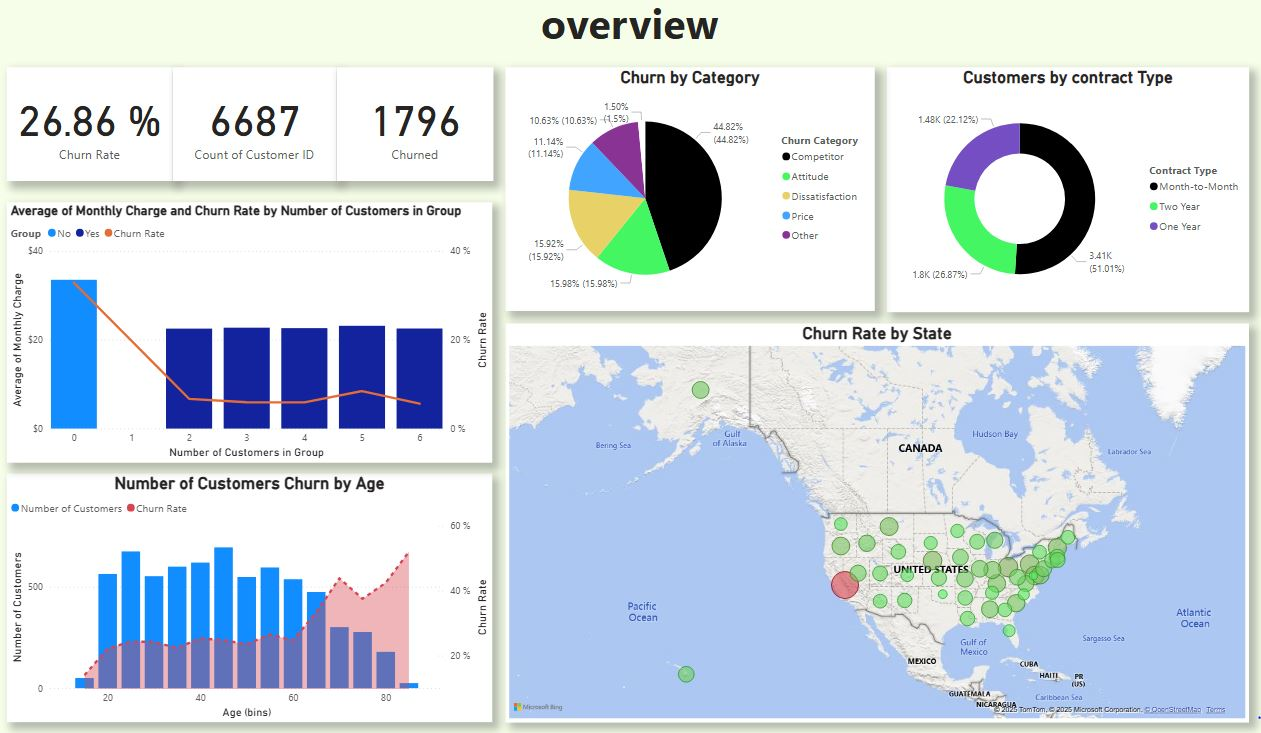

This screenshot's page, from the dashboard's own definition file:
{"tool":"powerbi","page":{"name":"Overview","canvas":[1640,960],"ordinal":5},"visuals":[{"type":"card","fields":{"Values":["Databel - Data.Churn Rate"]},"box":[18.3,98.3,213.3,146.7],"z":0},{"type":"card","fields":{"Values":["Count(Databel - Data.Customer ID)"]},"box":[231.7,98.3,210,146.7],"z":1000},{"type":"card","fields":{"Values":["Sum(Databel - Data.Churned)"]},"box":[441.7,98.3,201.7,146.7],"z":2000},{"type":"donutChart","title":"Customers by contract Type","fields":{"Y":["Count(Databel - Data.Customer ID)"],"Category":["Databel - Data.Contract Type"]},"box":[1150,98.3,466.7,315],"z":3000},{"type":"pieChart","title":"Churn by Category","fields":{"Category":["Databel - Data.Churn Category"],"Y":["CountNonNull(Databel - Data.Churn Label)"]},"box":[660,98.3,475,313.3],"z":4000},{"type":"map","fields":{"Category":["Databel - Data.State"],"Size":["Databel - Data.Churn Rate"]},"box":[660,428.3,956.7,513.3],"z":5000},{"type":"textbox","box":[680,0,278.3,85],"z":6000},{"type":"lineStackedColumnComboChart","title":"Number of Customers Churn  by Age ","fields":{"Category":["Databel - Data.Age (bins)"],"Y":["Databel - Data.Number of costumers"],"Y2":["Databel - Data.Churn Rate"]},"box":[18.3,621.7,625,320],"z":7000},{"type":"lineStackedColumnComboChart","title":"Average of Monthly Charge and Churn Rate by Number of Customers in Group","fields":{"Category":["Databel - Data.Number of Customers in Group"],"Y":["Avg(Databel - Data.Monthly Charge)"],"Series":["Databel - Data.Group"],"Y2":["Databel - Data.Churn Rate"]},"box":[18.3,271.7,625,335],"z":8000}]}

Visuals, with their boxes in screenshot pixels (x1, y1, x2, y2), scaled from the page's 1640x960 canvas onto the 1261x733 screenshot:
card - Databel - Data.Churn Rate: bbox(14, 75, 178, 187)
card - Count(Databel - Data.Customer ID): bbox(178, 75, 340, 187)
card - Sum(Databel - Data.Churned): bbox(340, 75, 495, 187)
"Customers by contract Type" donutChart: bbox(884, 75, 1243, 316)
"Churn by Category" pieChart: bbox(507, 75, 873, 314)
map - Databel - Data.State x Databel - Data.Churn Rate: bbox(507, 327, 1243, 719)
textbox: bbox(523, 0, 737, 65)
"Number of Customers Churn  by Age " lineStackedColumnComboChart: bbox(14, 475, 495, 719)
"Average of Monthly Charge and Churn Rate by Number of Customers in Group" lineStackedColumnComboChart: bbox(14, 207, 495, 463)
